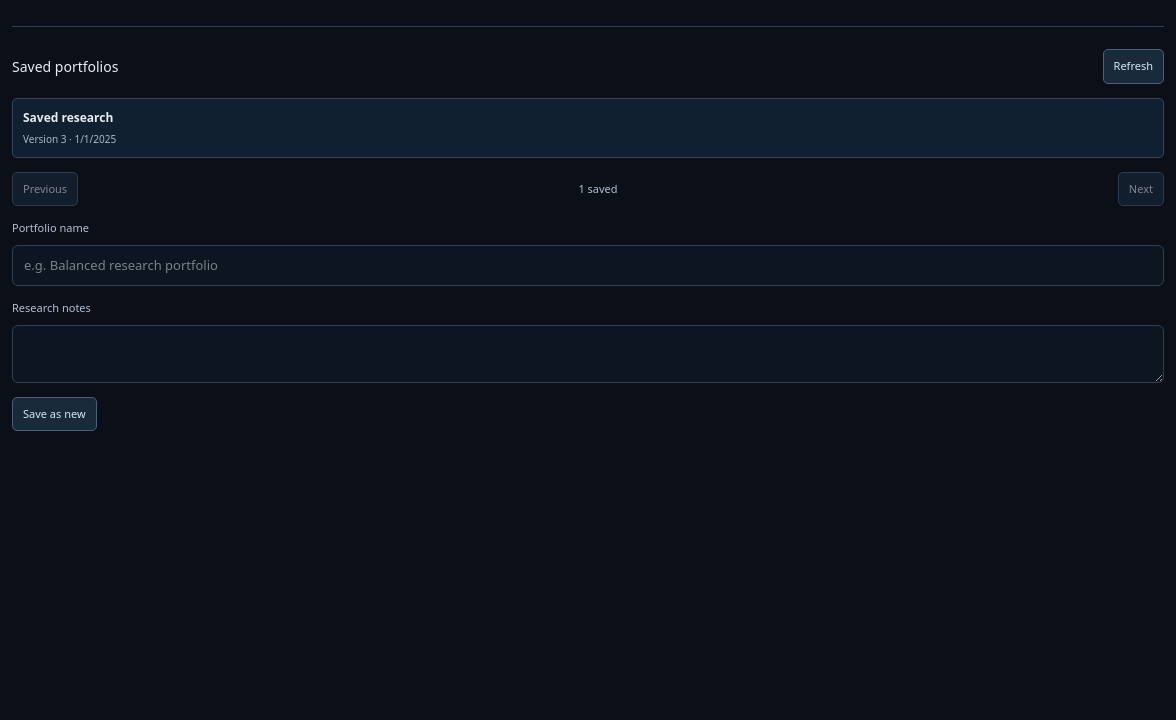
Test: loads saved inputs and sends the original version when updating
Click the button "Saved research Version 3 · 1/1/2025" at (68, 117), box [12,98,1164,158]
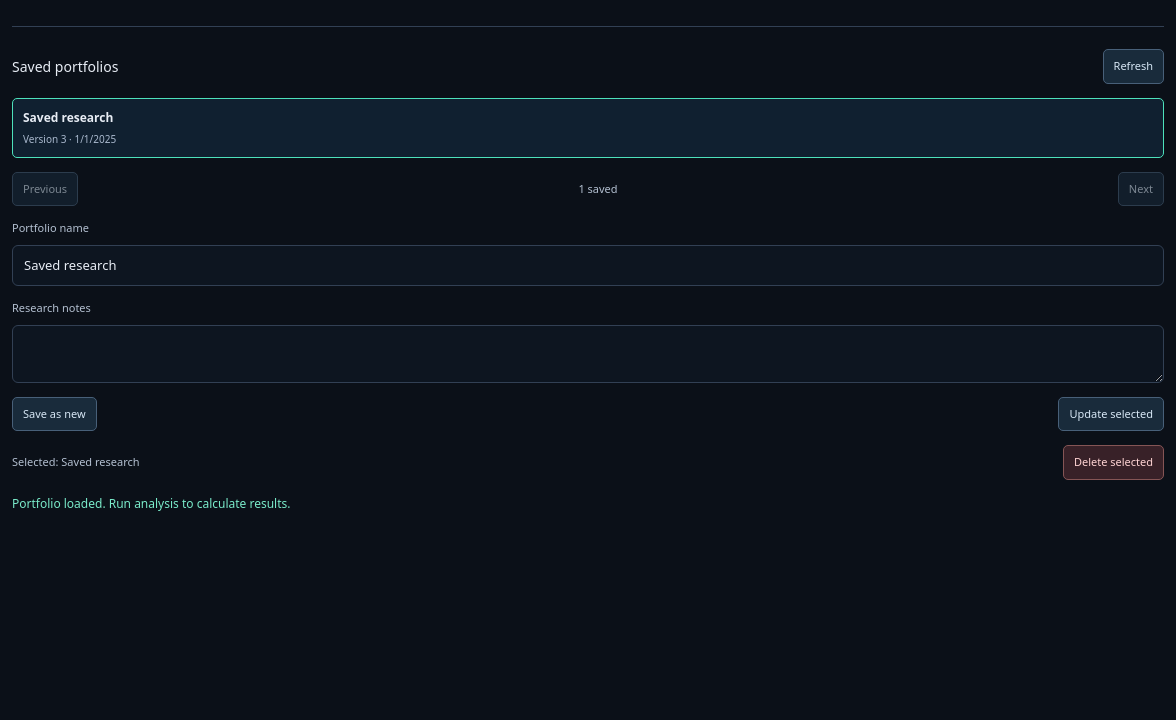
Click the button "Update selected" at (1111, 414), box [1058,397,1164,431]
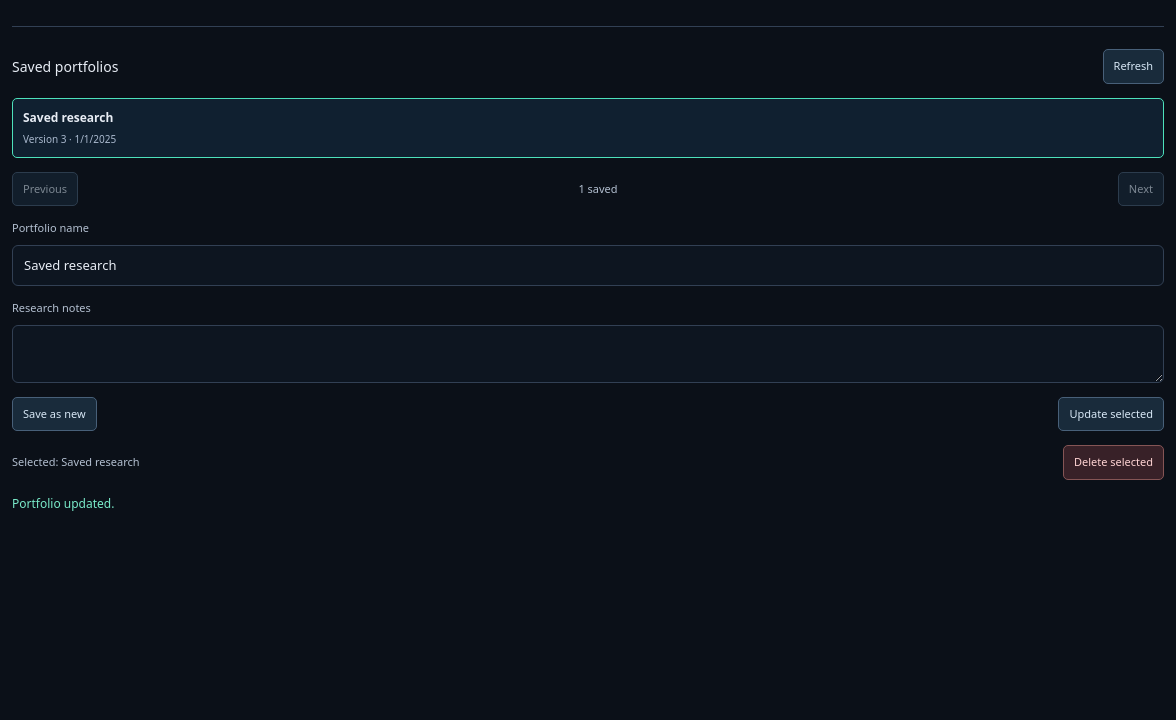
expect the text "Portfolio updated." is shown: met, box [12,495,114,512]
